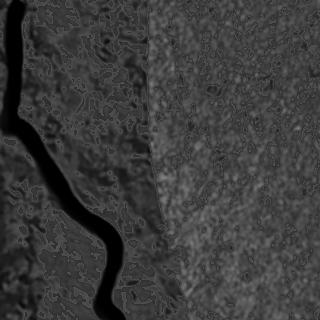brick: (146, 0, 319, 319)
crack: (0, 0, 126, 319)
